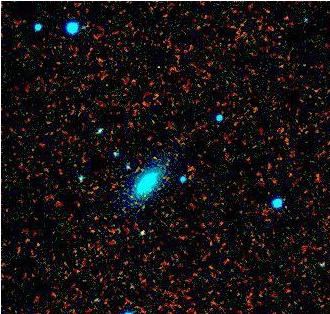star: (136, 105, 166, 135)
